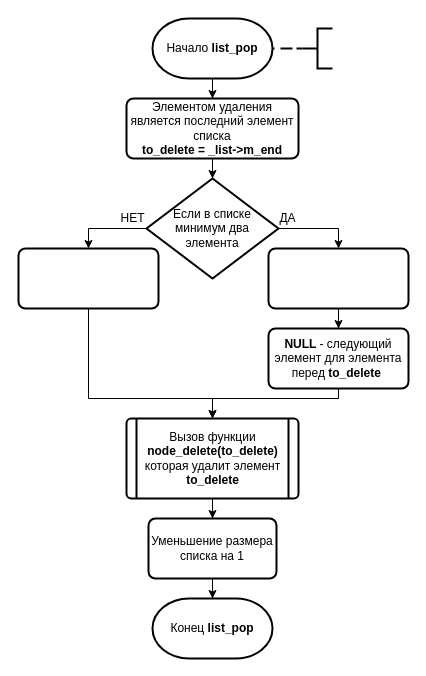
Image size: 426x676. Some labels were removed from this diagram. Each missing label, with the box of its shape:
list - список: (301, 27, 333, 69)
Конец списка указывает на элемент перед to_delete: (267, 247, 409, 309)
Начало и конец списка указывают на NULL: (17, 247, 159, 309)
